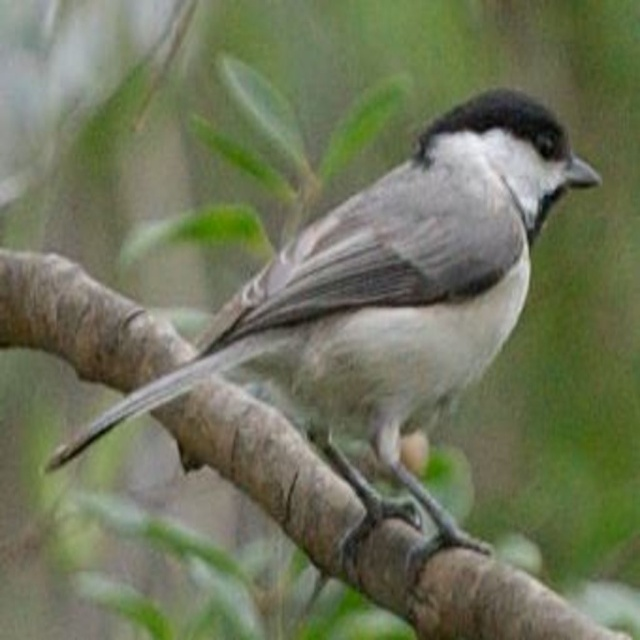Sparrow: (41, 86, 603, 581)
